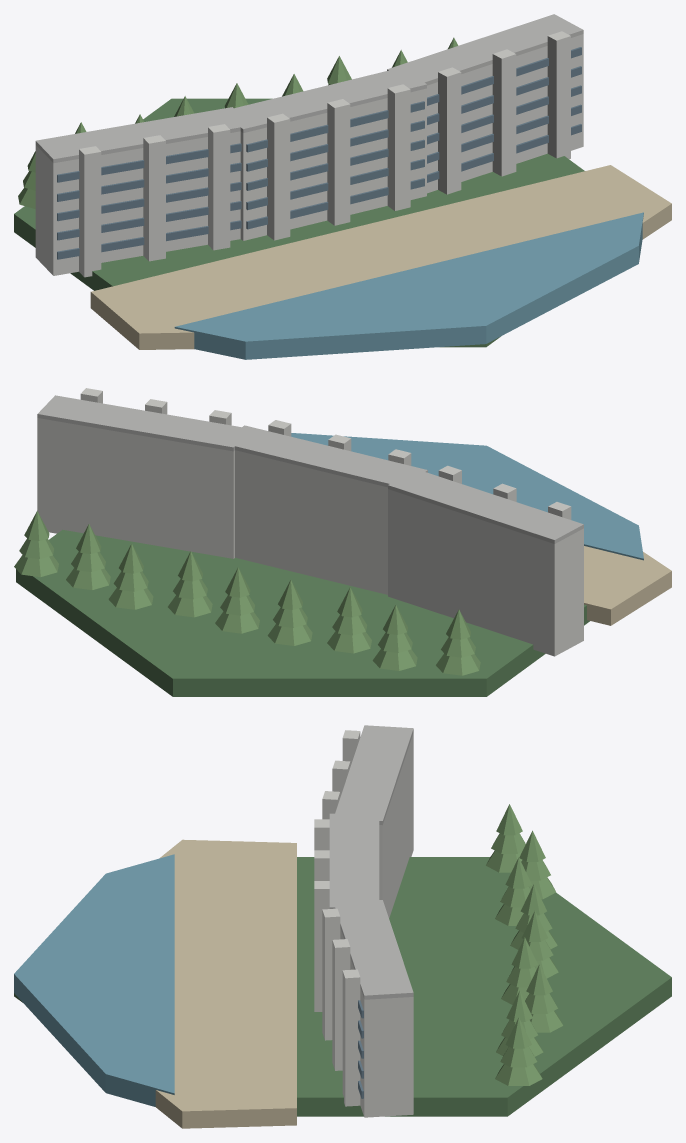
The model's file is prora.glb.
3 renders of one model, top to bottom at view 1: azimuth 30°, elevation 25°; view 2: azimuth 150°, elevation 25°; view 3: azimuth 270°, elevation 25°, orthographic. The views are drawn at different scales.
Visible parts, largest first — view 1: LOD0; view 2: LOD0; view 3: LOD0.
Boxes of the visible parts, left/top/right/bottom form: LOD0: left=14, top=14, right=671, bottom=359; LOD0: left=14, top=388, right=671, bottom=696; LOD0: left=14, top=725, right=671, bottom=1128.
Size of what is drawn, in the model's own units: 1.68 by 0.41 by 1.72.
